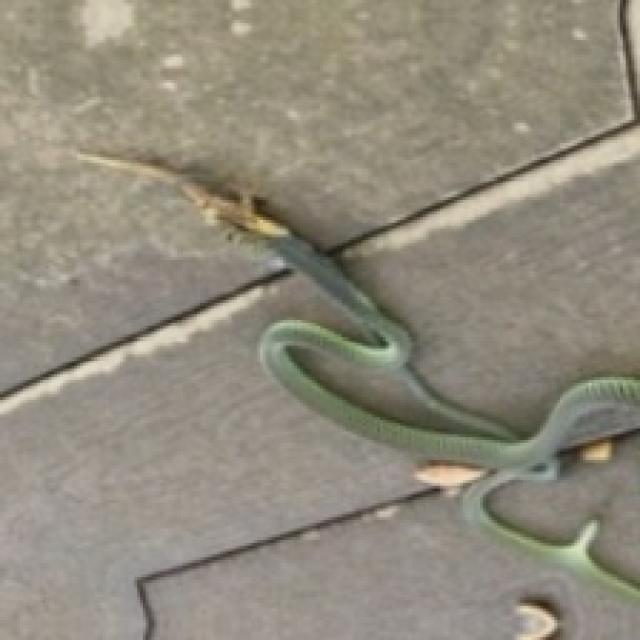paradise tree snake: (260, 234, 637, 594), (343, 154, 637, 420), (140, 494, 637, 637), (291, 346, 463, 431)
